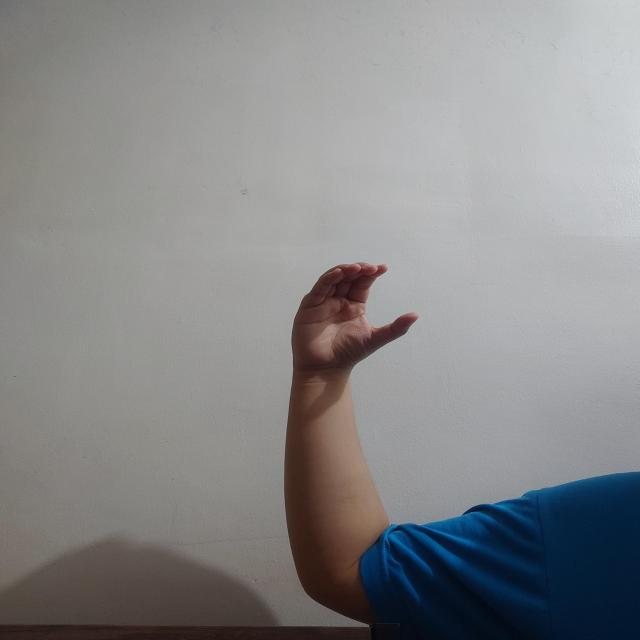C: (291, 262, 419, 368)
